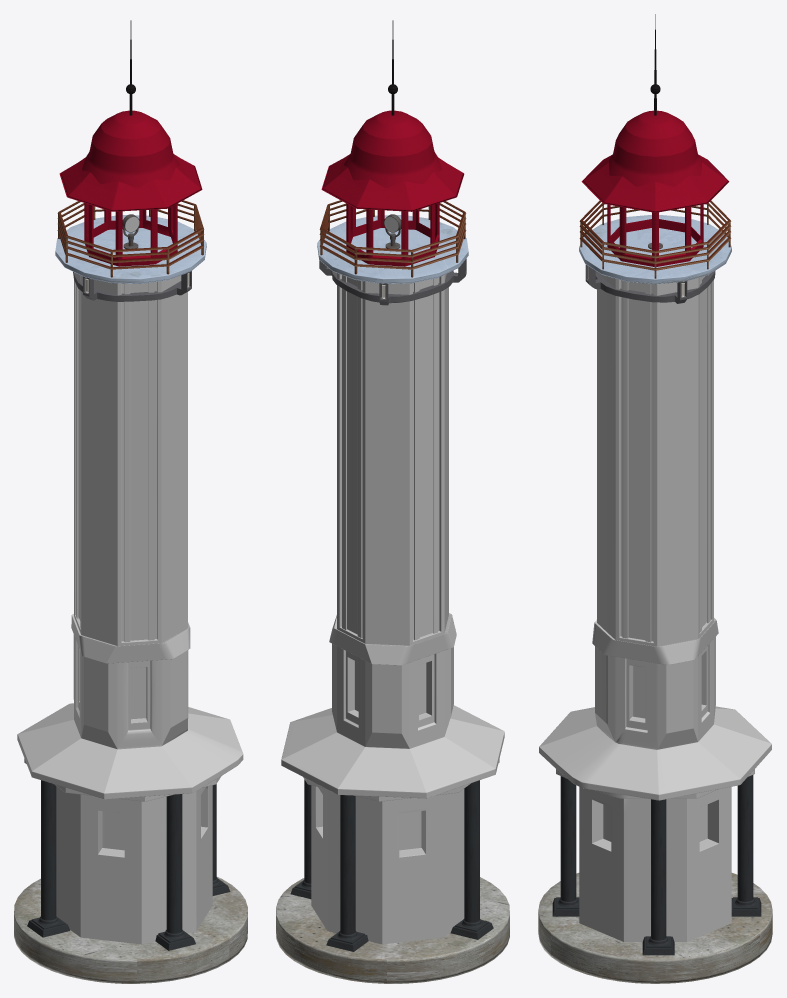
File: lighthouse.fbx
3 renders of one model, left to right at view 1: azimuth 30°, elevation 25°; view 2: azimuth 150°, elevation 25°; view 3: azimuth 270°, elevation 25°, orthographic.
Parts seen in each view (by area): view 1: pCylinder1, pCylinder2, pSphere1, pCylinder4, pCylinder6, pCylinder5, pCylinder3, pCylinder47, pCylinder40, pCylinder44, pCylinder33, pCylinder42 (+1 smaller); view 2: pCylinder1, pCylinder2, pSphere1, pCylinder4, pCylinder6, pCylinder5, pCylinder45, pCylinder47, pCylinder40, pCylinder46, pCylinder44, pCylinder33 (+2 smaller); view 3: pCylinder1, pCylinder2, pSphere1, pCylinder4, pCylinder6, pCylinder5, pCylinder46, pCylinder45, pCylinder3, pCylinder40, pCylinder44, pCylinder43 (+2 smaller).
Boxes of the visible parts, x1,y1,x2,y2 form: pCylinder1: (17,275,243,944); pCylinder2: (14,877,247,983); pSphere1: (82,110,179,187); pCylinder4: (55,215,206,283); pCylinder6: (59,154,202,211); pCylinder5: (84,203,177,266); pCylinder3: (164,794,184,938); pCylinder47: (38,780,58,925); pCylinder40: (73,271,191,301); pCylinder44: (57,209,203,269); pCylinder33: (57,200,204,252); pCylinder42: (57,203,204,257); pCylinder1: (281,273,504,944); pCylinder2: (276,877,509,983); pSphere1: (344,110,441,187); pCylinder4: (317,215,468,283); pCylinder6: (321,154,464,211); pCylinder5: (346,203,439,266); pCylinder45: (337,795,358,939); pCylinder47: (461,780,482,927); pCylinder40: (319,258,466,305); pCylinder46: (301,779,311,888); pCylinder44: (320,209,466,269); pCylinder33: (319,200,466,252); pCylinder1: (539,272,771,941); pCylinder2: (538,873,772,983); pSphere1: (609,110,701,186); pCylinder4: (579,215,731,283); pCylinder6: (581,155,729,212); pCylinder5: (607,204,703,266); pCylinder46: (648,799,668,945); pCylinder45: (735,775,755,906); pCylinder3: (558,776,578,906); pCylinder40: (585,264,715,303); pCylinder44: (579,209,731,270); pCylinder43: (580,206,730,264).
Bounding box in the file's own units: 2.84 × 12.31 × 2.84.
